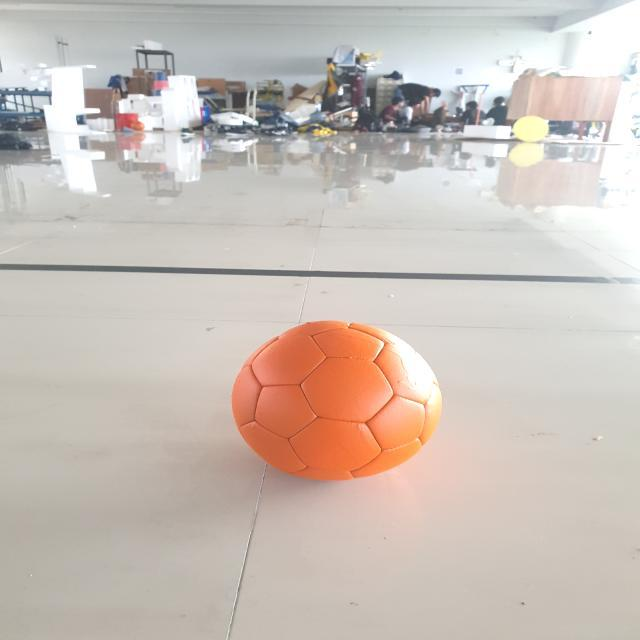bola: (223, 311, 444, 487)
